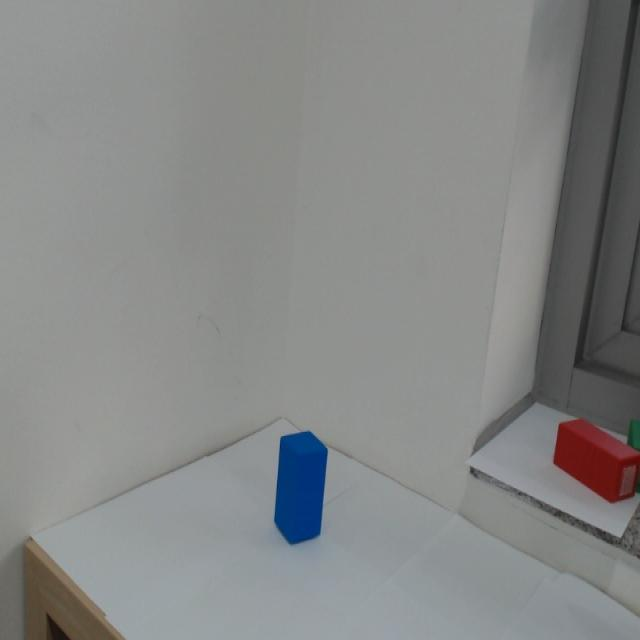cube: (232, 383, 361, 567)
